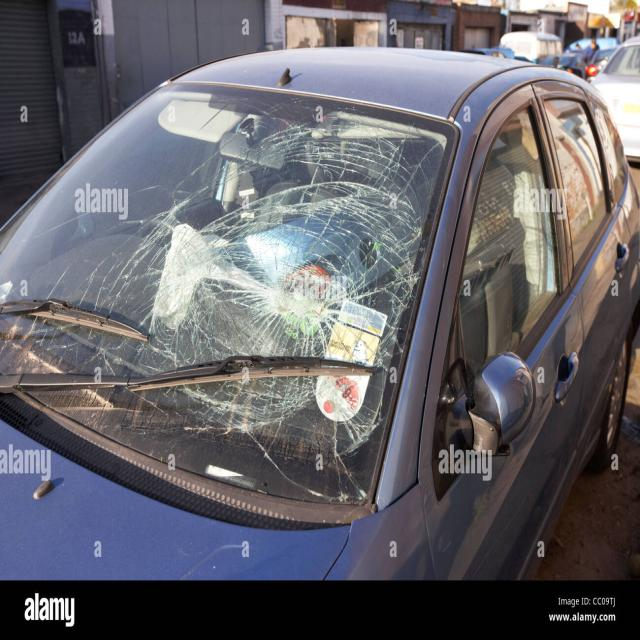crack: (27, 99, 434, 511)
